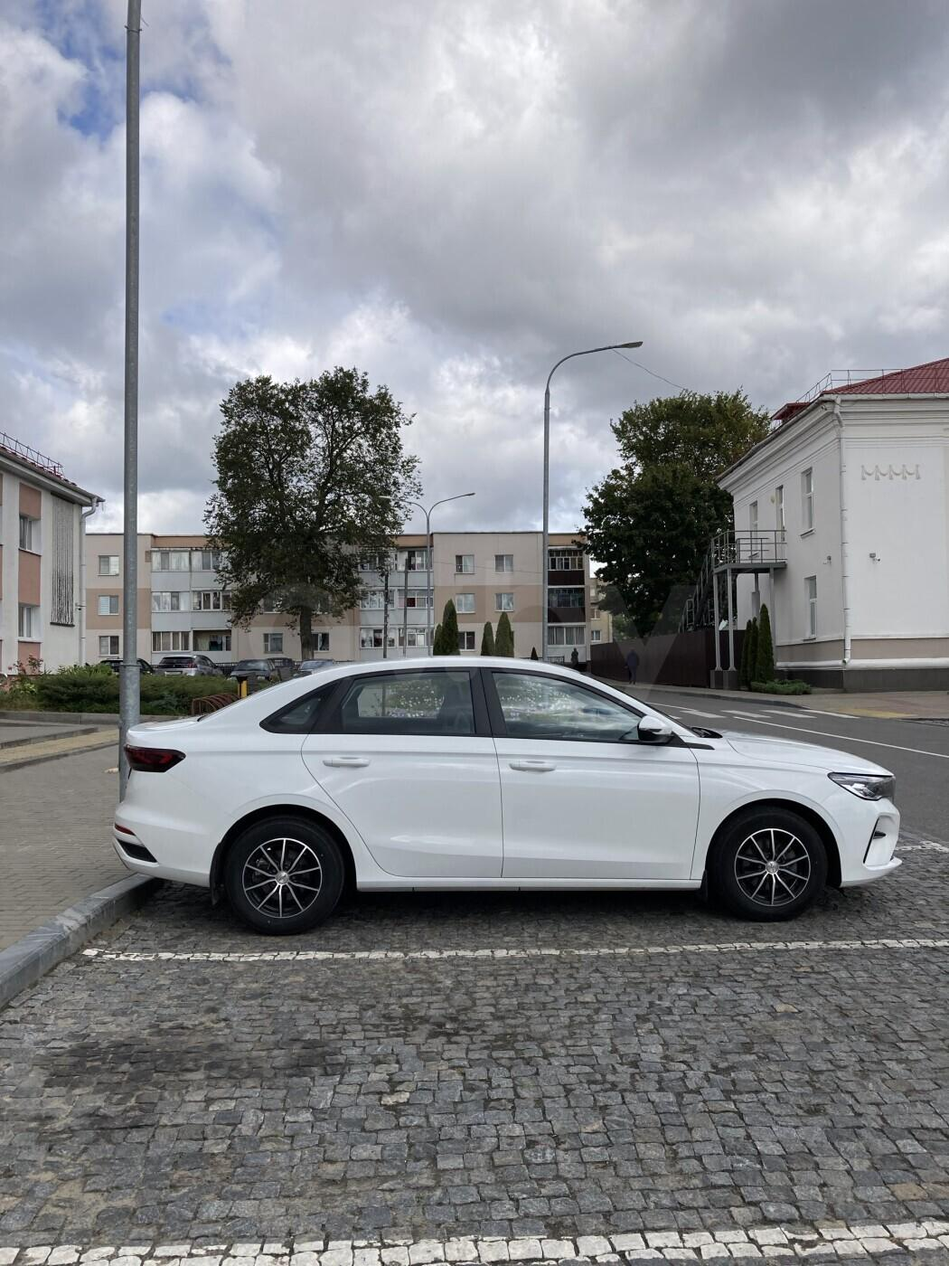Emgrand_2021: (113, 657, 900, 935)
